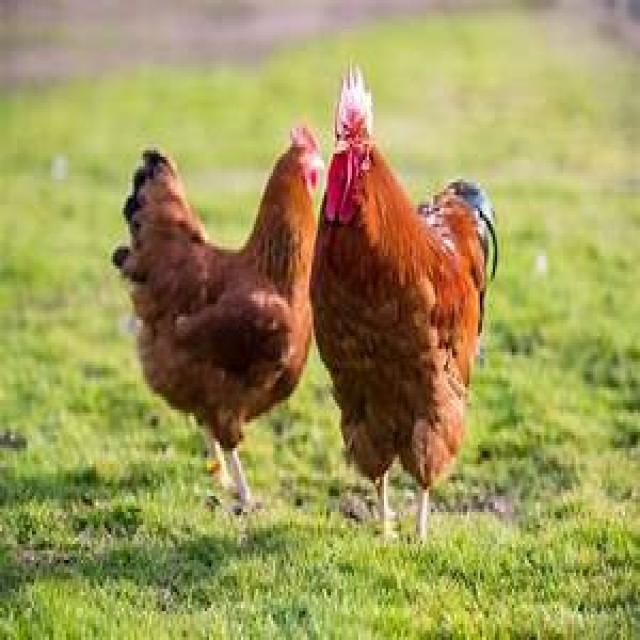hen: (309, 70, 497, 534), (111, 125, 322, 515)
